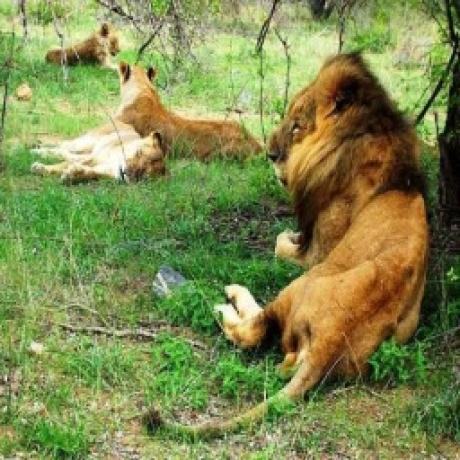Lion: (210, 47, 434, 418), (115, 57, 267, 166), (33, 122, 166, 189), (44, 19, 121, 67)
